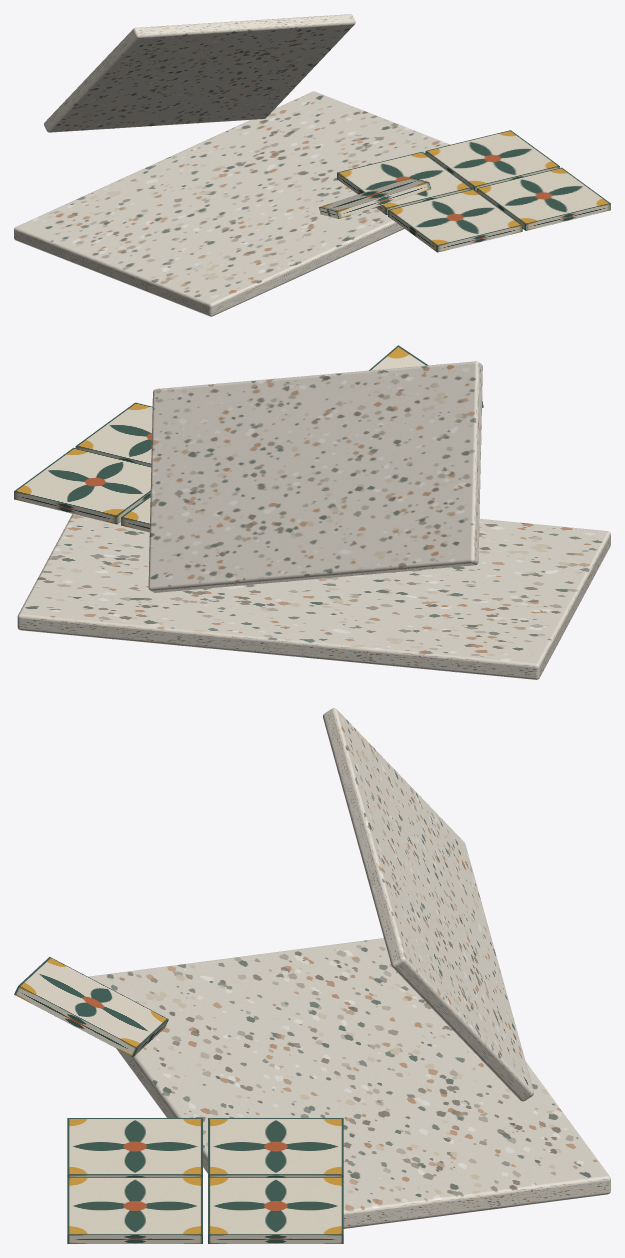
Rendered from terrazzo.glb.
3 renders of one model, top to bottom at view 1: azimuth 30°, elevation 25°; view 2: azimuth 150°, elevation 25°; view 3: azimuth 270°, elevation 25°, orthographic. The views are drawn at different scales.
Size of the model in its own units: 2.18 by 0.9734 by 1.76.
2 materials, 2 textured.
